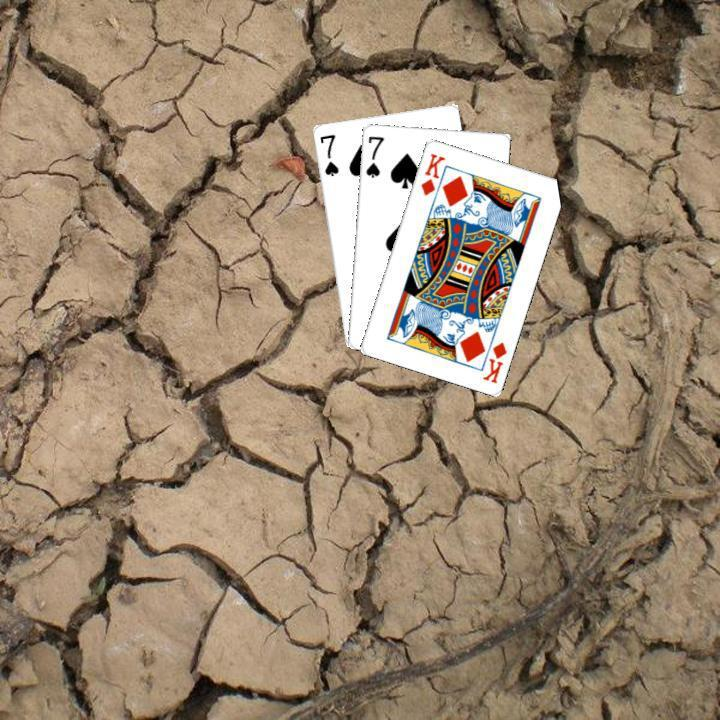7: (315, 130, 340, 178), (361, 131, 385, 179)
K: (416, 148, 447, 197), (478, 337, 509, 385)
